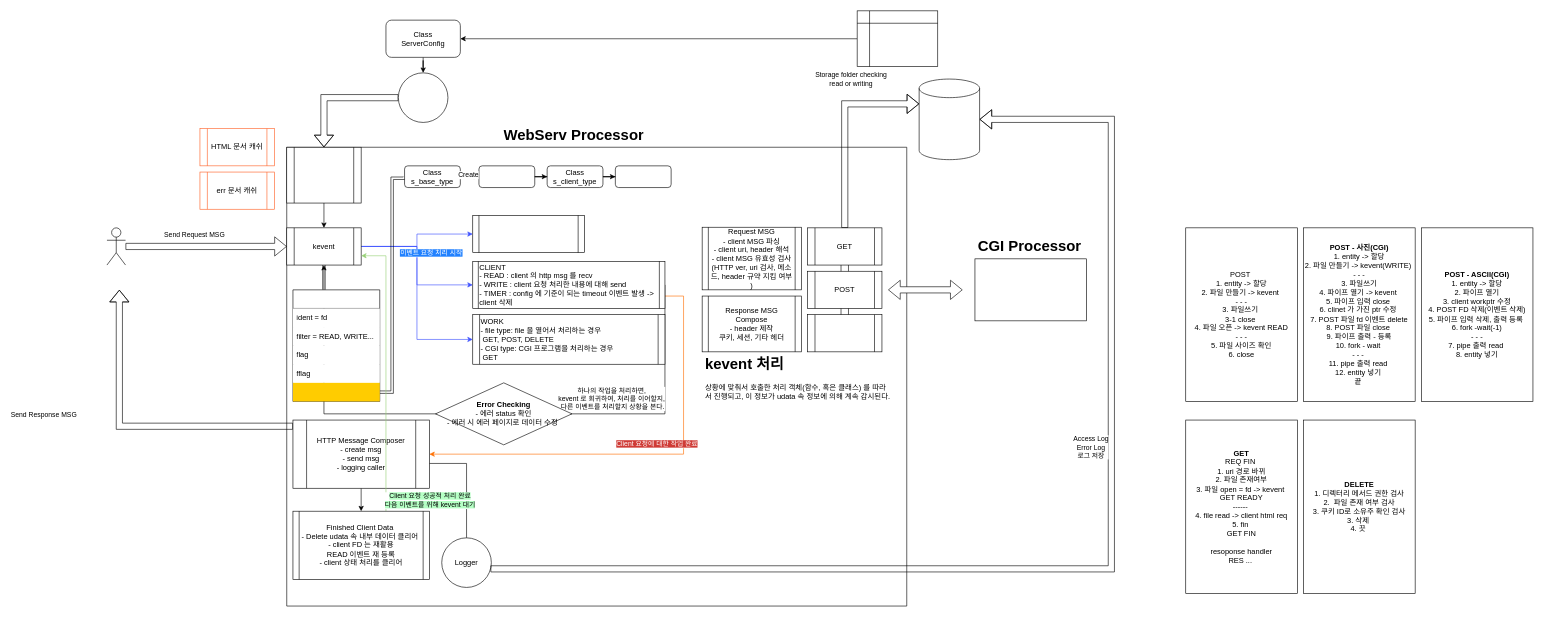
The diagram is 1544 pixels wide and 617 high, and some of its shapes have lost their labels. The box of each missing label's shape, as (x1, y1, x2, y2) in pixels:
/ Storage: (919, 78, 980, 160)
argv 로 인자 전달 가능 파이프로도 입출력 가능 데이터를 전달 받을 땐 파이프를 활용한다.: (974, 258, 1087, 321)
Class s_server_type: (478, 165, 535, 188)
Class s_work_type: (615, 165, 671, 188)
Client: (106, 227, 126, 265)
ConfigDATAs: (398, 72, 448, 122)
DELETE: (807, 314, 882, 352)
File Conf.d: (857, 10, 938, 67)
Library ServerInit: (286, 147, 361, 203)
SERVER - client 생성: (472, 215, 584, 253)
struct kevent: (292, 289, 380, 401)
udata: (293, 383, 379, 401)
